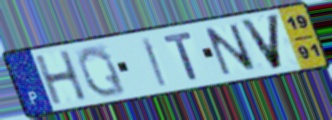H: (32, 48, 90, 108)
I: (139, 35, 169, 89)
N: (202, 22, 260, 78)
Q: (76, 44, 130, 99)
T: (161, 30, 202, 82)
V: (237, 12, 285, 72)
